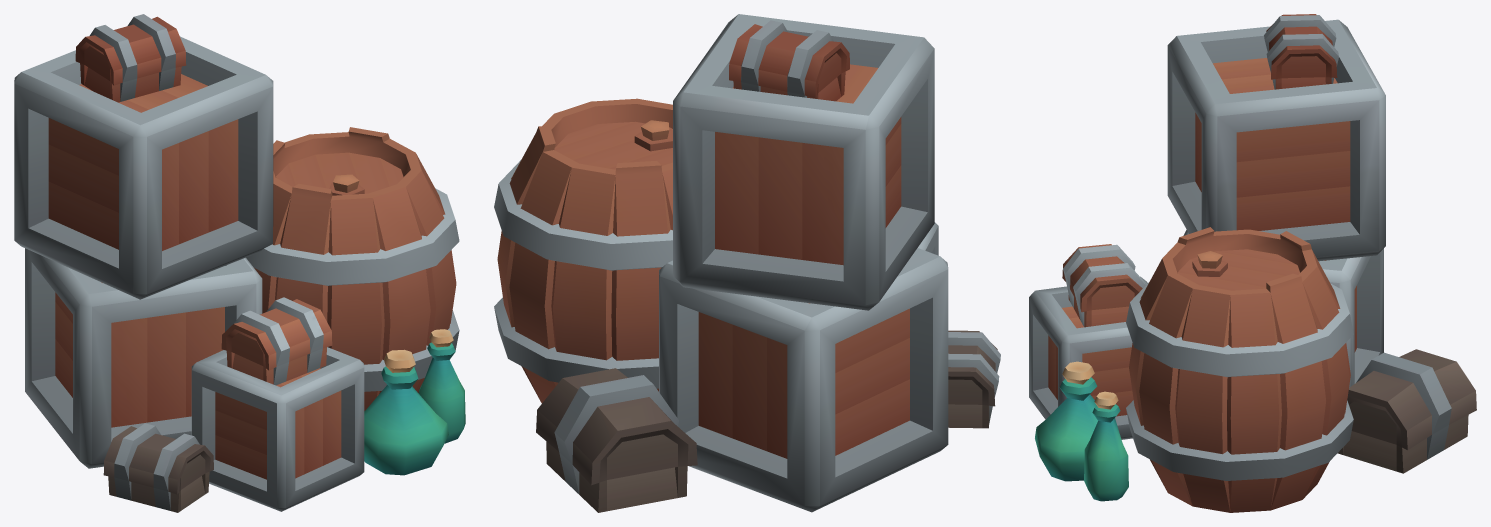
The model's file is d_kaykit_caisses_empilees.glb.
3 views of the same model, side by side, from view 1: azimuth 30°, elevation 25°; view 2: azimuth 150°, elevation 25°; view 3: azimuth 270°, elevation 25° (orthographic). The views are drawn at different scales.
Visible parts, largest first — view 1: d_kaykit_caisses_empilees; view 2: d_kaykit_caisses_empilees; view 3: d_kaykit_caisses_empilees.
Part boxes in pixels (<box>): d_kaykit_caisses_empilees: <box>14,14,465,512</box>; d_kaykit_caisses_empilees: <box>494,14,1000,512</box>; d_kaykit_caisses_empilees: <box>1029,14,1476,512</box>.
Size of the model in its own units: 3.48 by 3.31 by 3.63.
Materials: 1 (1 with a texture image).
